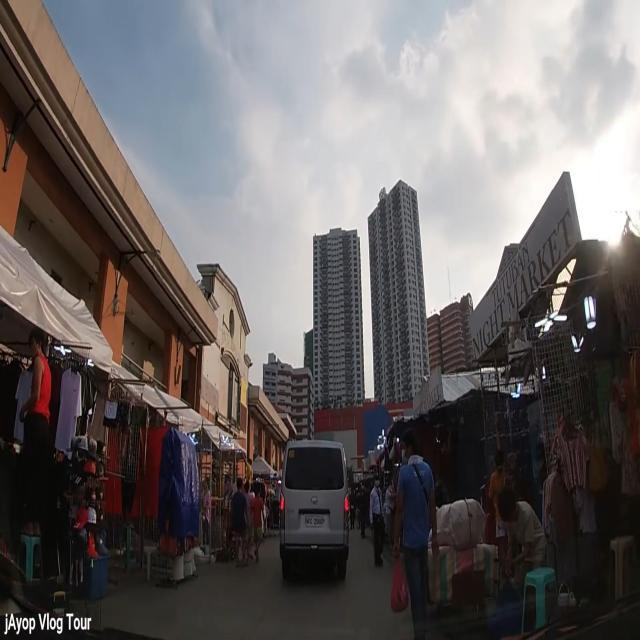car: (279, 441, 349, 582)
